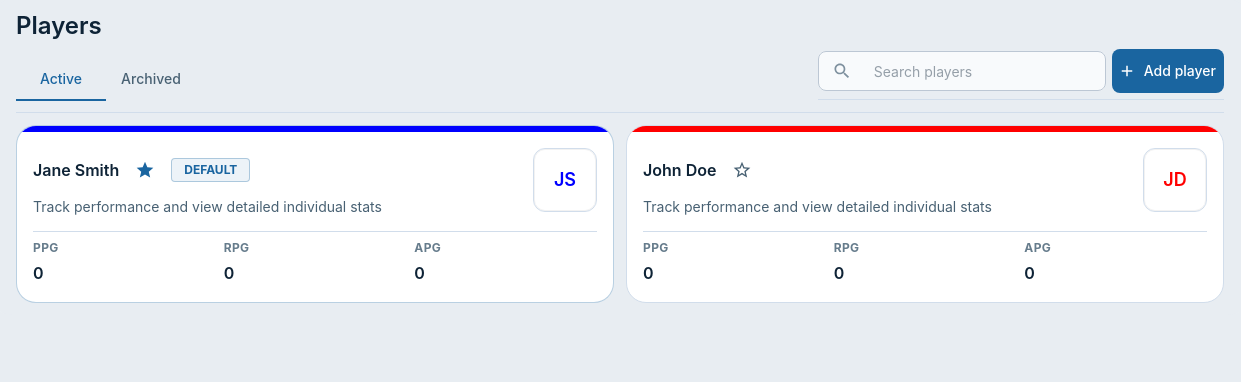
Test: Players Component › renders list of players and handles interactions
Expected: the heading "John Doe" is shown, [643,158,716,182]
Expected: the heading "Jane Smith" is shown, [33,158,119,182]
# Test Search
In the field with placeholder "Search players": [983, 71] box [860,51,1106,91], type "John"
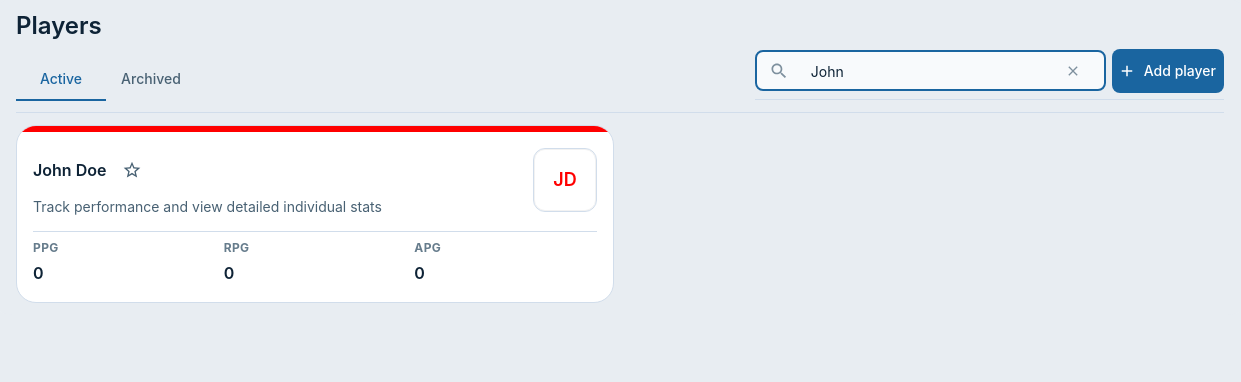
Expected: the heading "John Doe" is shown, [33,158,106,182]
Expected: the button "Jane Smith" is gone
# Clear Search
Clear the field named "Search": [920, 71] box [797,51,1043,91]
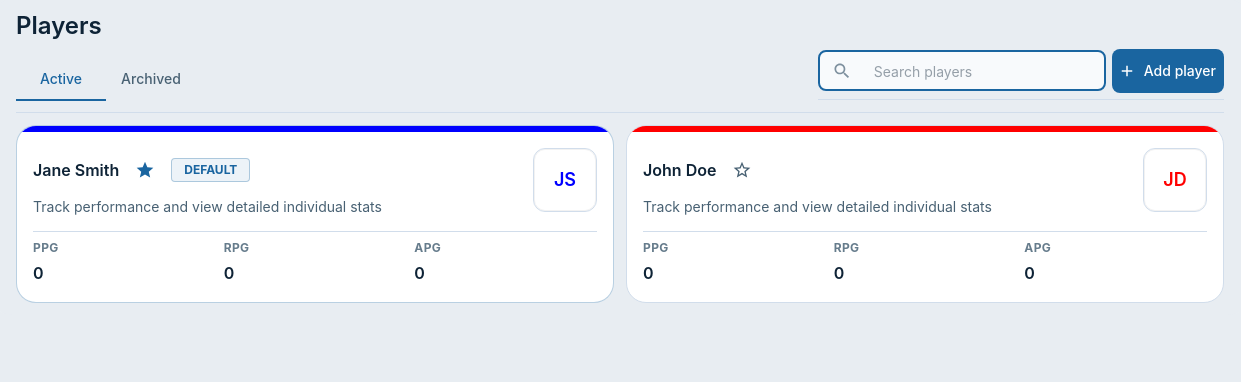
Expected: the heading "Jane Smith" is shown, [33,158,119,182]
# Test Tab Change
Click the tab "Archived": [151, 78] box [106,56,196,100]
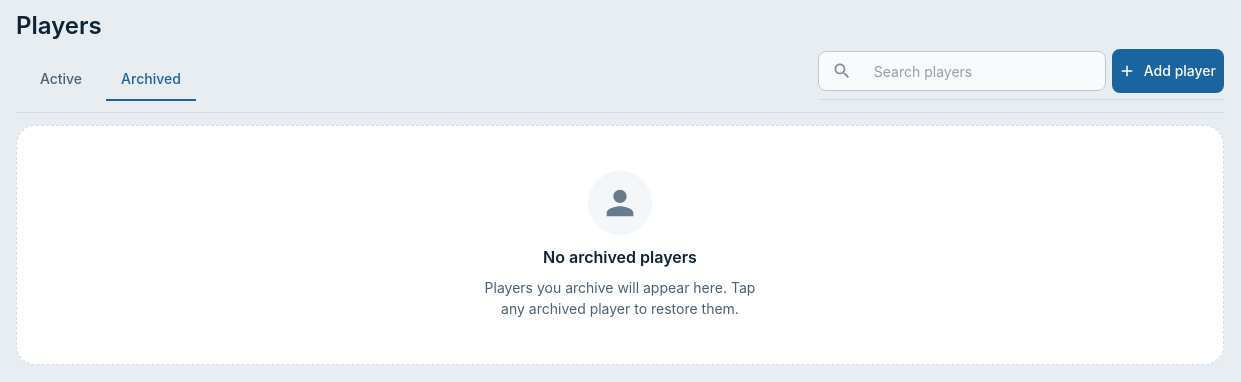
Expected: the text "No archived players" is shown, [543,245,697,271]
